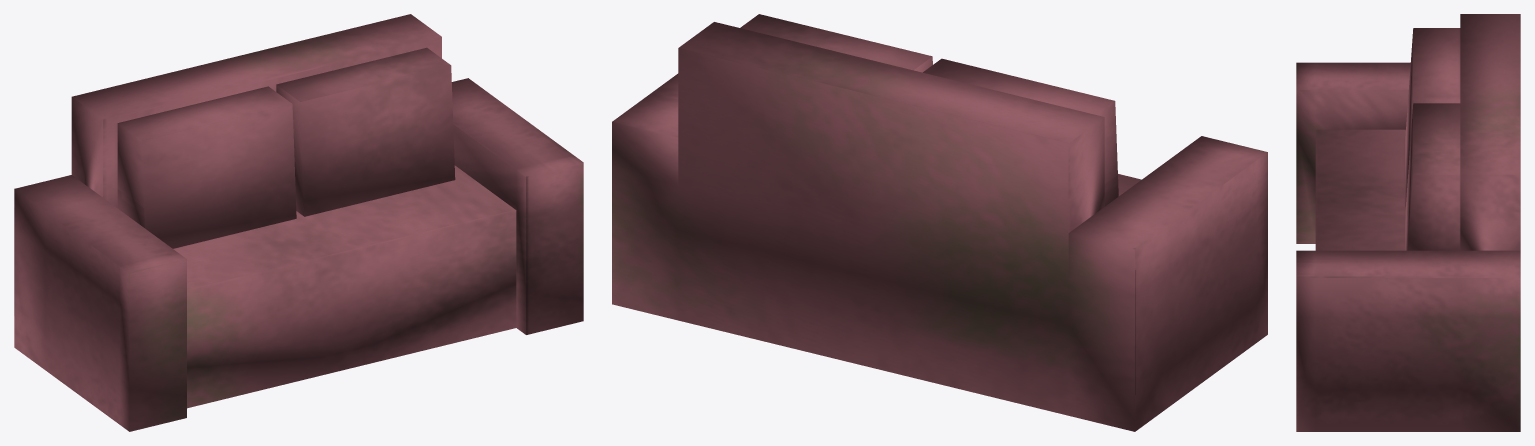
Rendered from sofa.glb.
The picture shows the model from 3 angles, left to right: view 1: azimuth 30°, elevation 25°; view 2: azimuth 150°, elevation 25°; view 3: azimuth 270°, elevation 25°; orthographic projection. The views are drawn at different scales.
Visible parts, largest first — view 1: Cube.014; view 2: Cube.014; view 3: Cube.014.
Part boxes in pixels (bbox=[...]): Cube.014: bbox=[14, 14, 583, 431]; Cube.014: bbox=[612, 14, 1267, 431]; Cube.014: bbox=[1296, 14, 1520, 431].
Bounding box in the file's own units: 2.5 × 1.25 × 1.1.
1 material, 1 textured.
